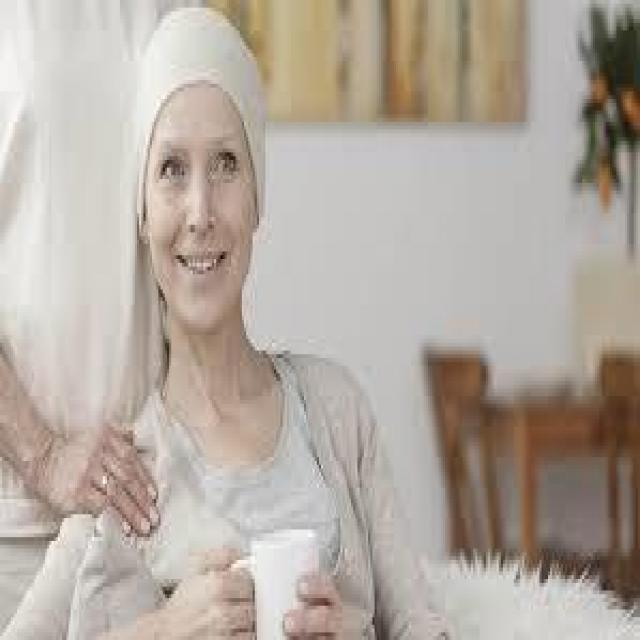person: (32, 12, 366, 632)
